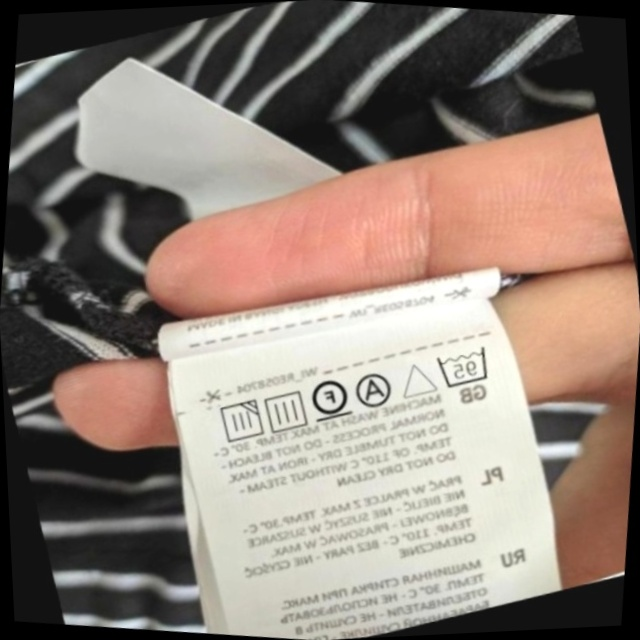95C: (426, 335, 500, 399)
bleach: (391, 350, 444, 407)
drip_dry: (254, 380, 317, 442)
drip_dry_in_shade: (207, 390, 272, 454)
dry_clean: (347, 363, 402, 417)
dry_clean_petrol_only: (300, 366, 359, 430)
